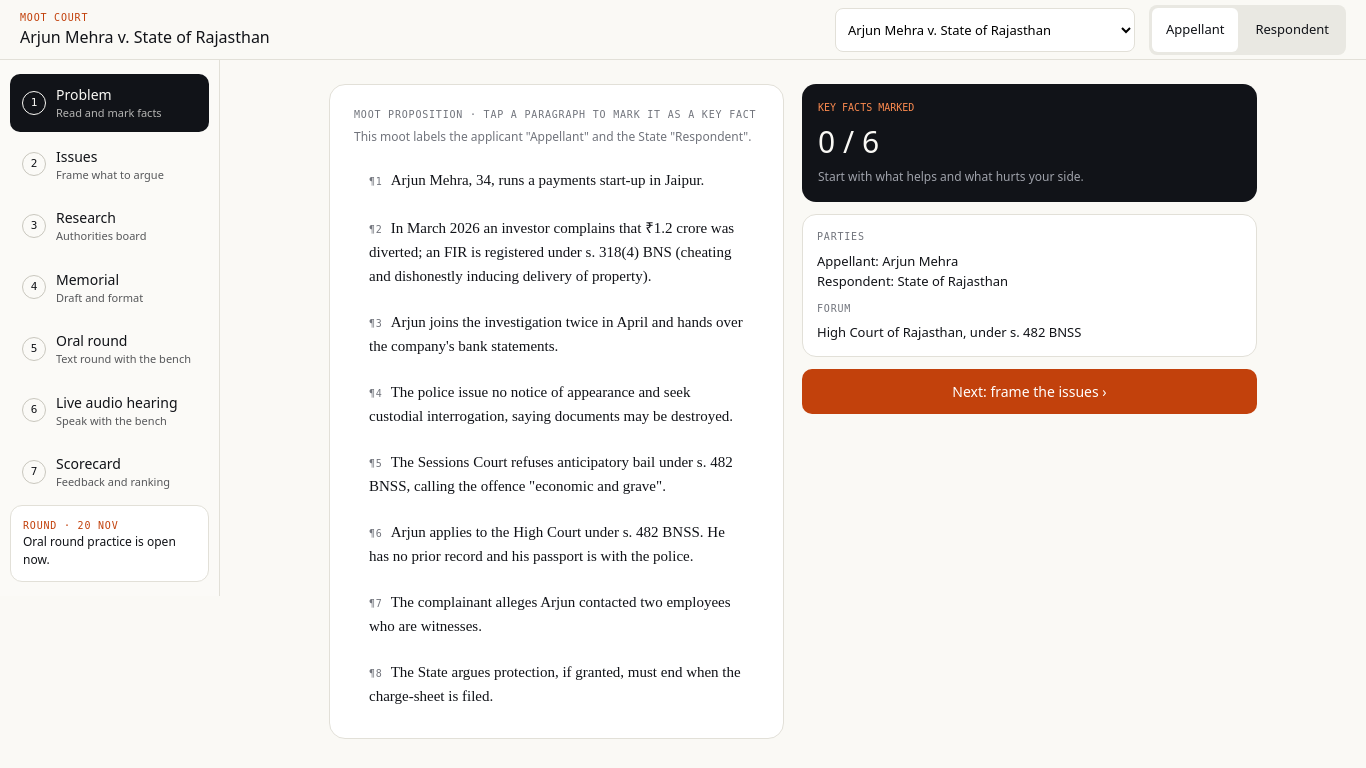
Scenario: switch on › research authorities are only the ones already in the verified list, with their verified flags
This screenshot has width=1366, height=768.
Step 1. Click the button "Respondent" → (1292, 30), box [1241, 8, 1343, 52]
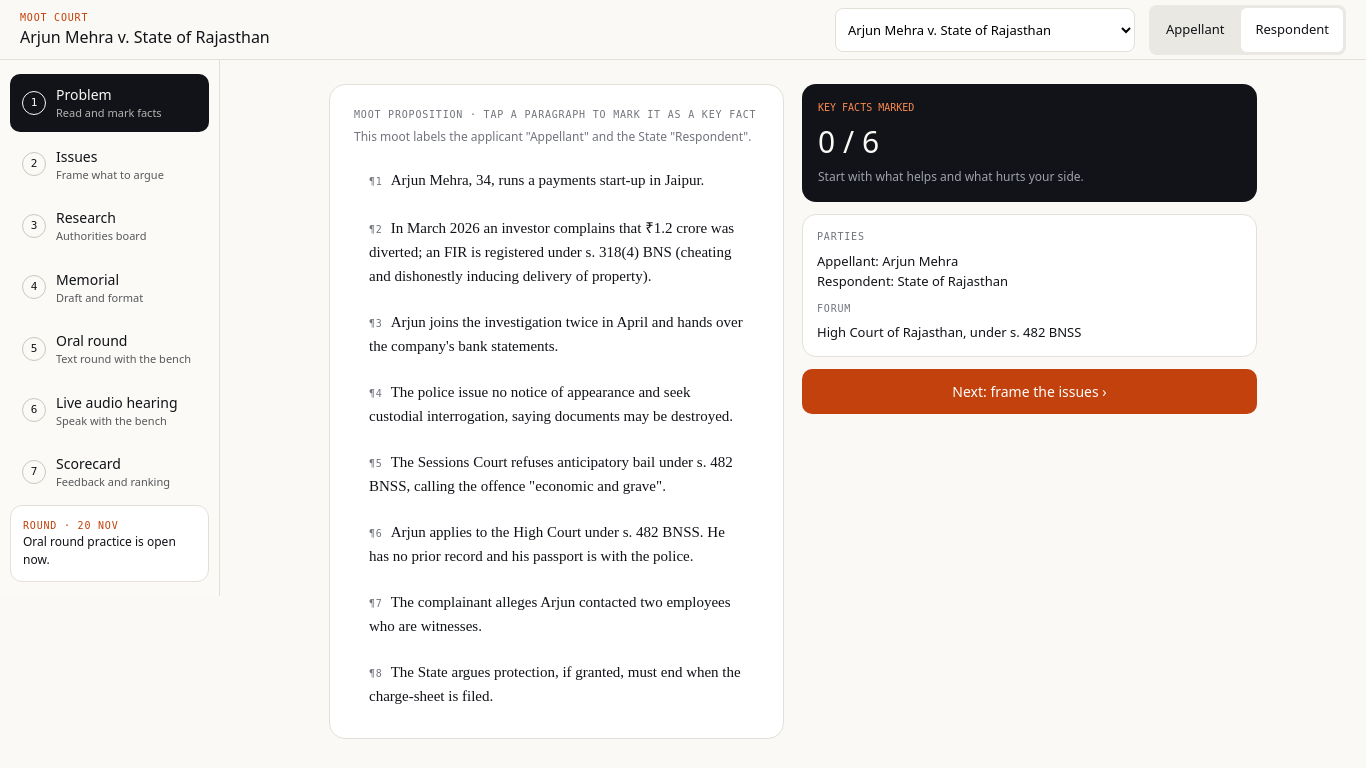
Step 2. Click the button "3 Research Authorities board" → (110, 226), box [10, 197, 209, 254]
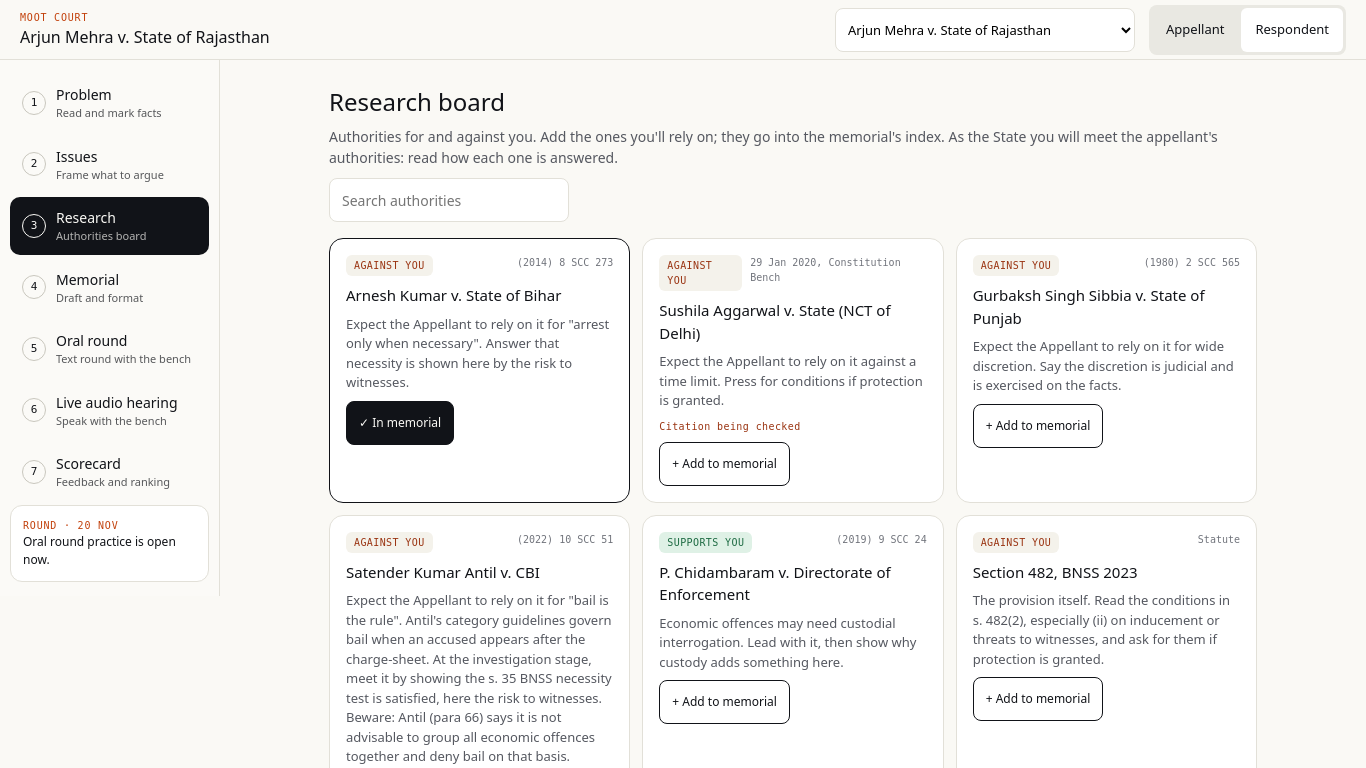
Expected: the text "Arnesh Kumar v. State of Bihar" is shown, [346, 285, 561, 305]
Expected: the text "Sushila Aggarwal v. State (NCT of Delhi)" is shown, [659, 299, 927, 344]
Expected: the text "Gurbaksh Singh Sibbia v. State of Punjab" is shown, [973, 284, 1240, 329]
